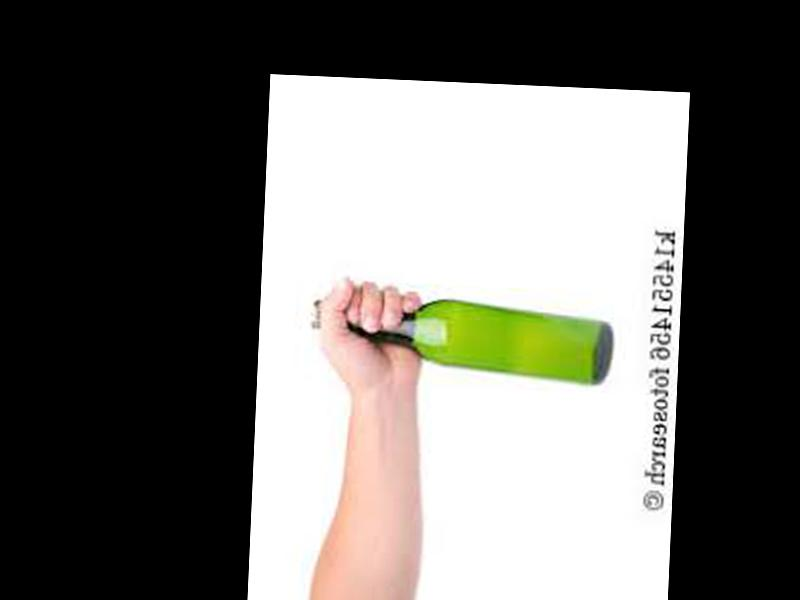Beer: (310, 294, 614, 387)
